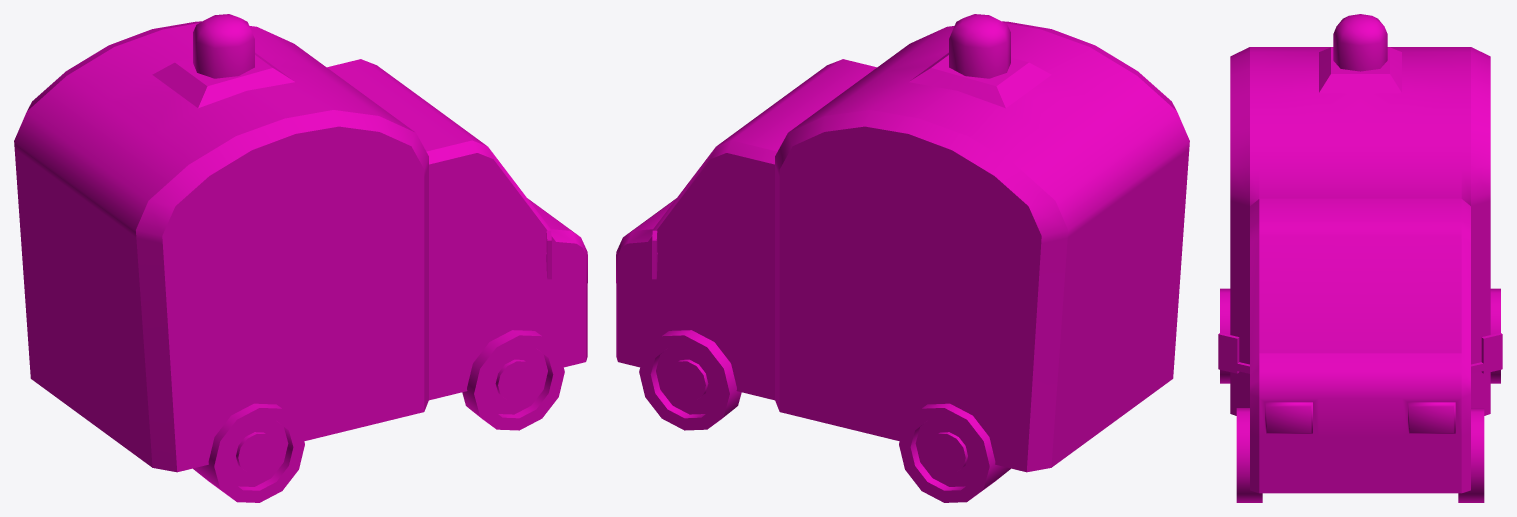
Rendered from ambulanciaLOW.fbx.
3 renders of one model, left to right at view 1: azimuth 30°, elevation 25°; view 2: azimuth 150°, elevation 25°; view 3: azimuth 270°, elevation 25°, orthographic. The views are drawn at different scales.
Parts seen in each view (by area): view 1: Cube, Cylinder.002, Cylinder; view 2: Cube, Cylinder.001, Cylinder; view 3: Cube, Cylinder.001, Cylinder.002, Cylinder.
Part boxes in pixels (<box>): Cube: <box>14,14,587,472</box>; Cylinder.002: <box>462,330,564,430</box>; Cylinder: <box>193,403,304,502</box>; Cube: <box>616,14,1189,472</box>; Cylinder.001: <box>639,330,741,430</box>; Cylinder: <box>899,403,1010,502</box>; Cube: <box>1218,14,1502,493</box>; Cylinder.001: <box>1458,408,1484,502</box>; Cylinder.002: <box>1236,408,1262,502</box>; Cylinder: <box>1220,288,1500,383</box>.
Size of the model in its own units: 334 by 288 by 196.
